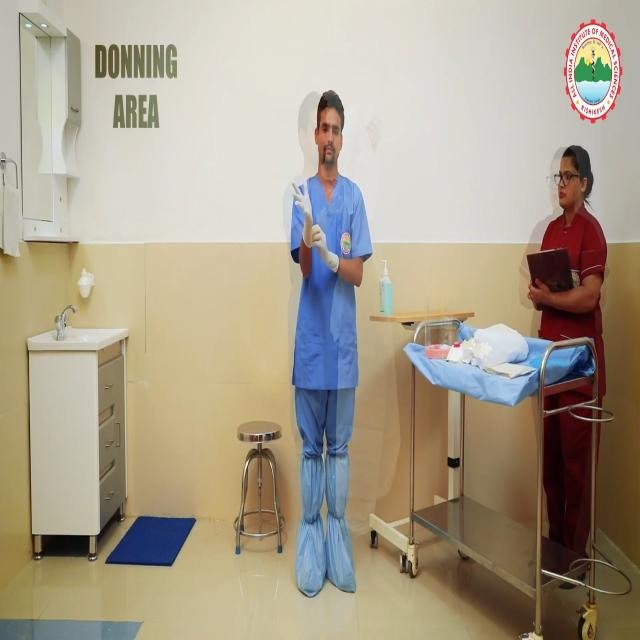Gloves: (310, 219, 343, 280), (293, 178, 316, 252)
